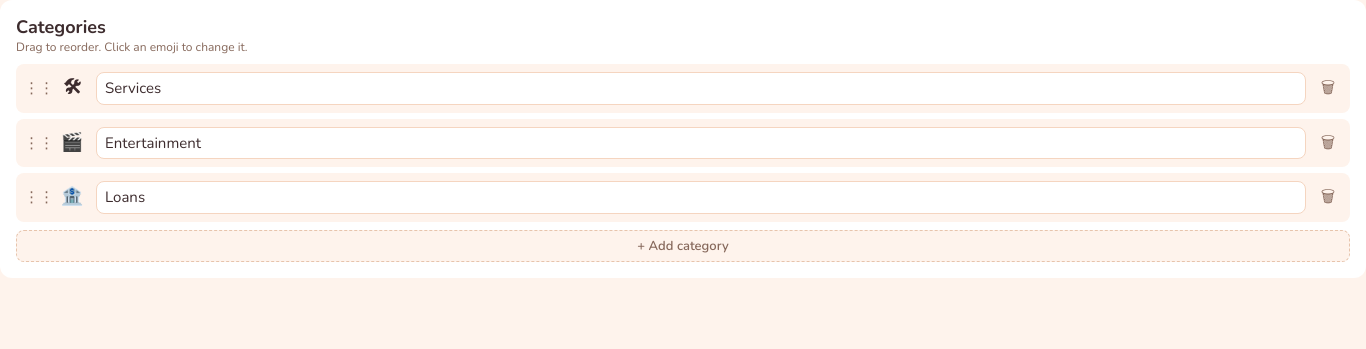
CategoriesEditor › clicking + Add category appends a draft row with empty name input visible
Expected: the field showing "Services" is shown, [96,72,1306,105]
Click the button "+ Add category" at [683, 246], box [16,230,1350,262]
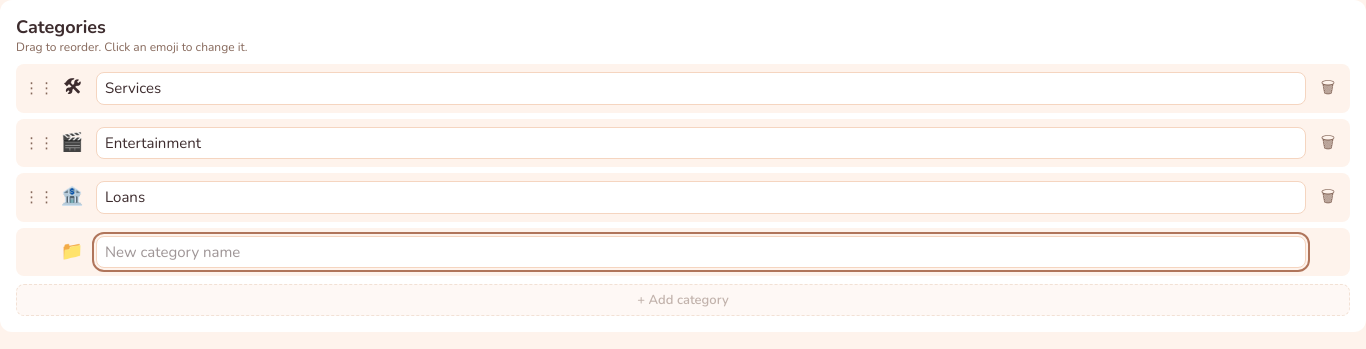
Now the field with placeholder "New category name" is shown, box [96,236,1306,268]
